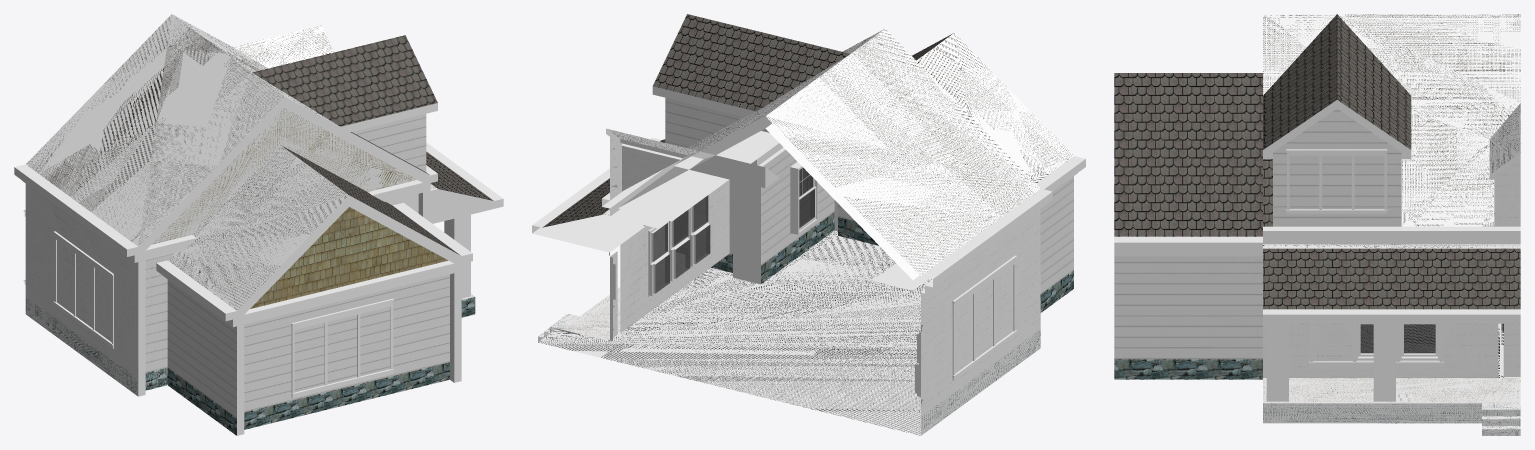
The model's file is sectionedHouseV3.dae.
The picture shows the model from 3 angles, left to right: view 1: azimuth 30°, elevation 25°; view 2: azimuth 150°, elevation 25°; view 3: azimuth 270°, elevation 25°; orthographic projection. The views are drawn at different scales.
Visible parts, largest first — view 1: SketchUp (×26), Window-3lite_8_-6x5_-4 (×2); view 2: SketchUp (×29), Window-3lite_8_-6x5_-4 (×2), WindowDoubleHung35x63; view 3: SketchUp (×24), Window-3lite_8_-6x5_-4 (×5).
Part boxes in pixels (bbox=[...]): SketchUp (×26): bbox=[14, 14, 503, 435]; Window-3lite_8_-6x5_-4 (×2): bbox=[53, 231, 394, 398]; SketchUp (×29): bbox=[532, 14, 1085, 435]; Window-3lite_8_-6x5_-4 (×2): bbox=[649, 227, 1016, 380]; WindowDoubleHung35x63: bbox=[790, 162, 818, 234]; SketchUp (×24): bbox=[1114, 14, 1520, 435]; Window-3lite_8_-6x5_-4 (×5): bbox=[1286, 149, 1443, 367].
Size of the model in its own units: 402 by 328 by 270.
